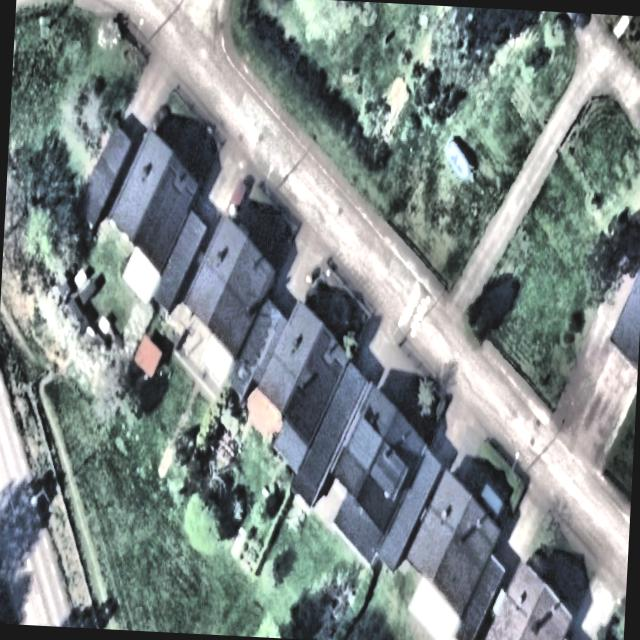roof_pv: (133, 183, 189, 273), (284, 388, 320, 441), (314, 359, 344, 415), (306, 326, 332, 386), (166, 182, 194, 208), (160, 166, 178, 191)
